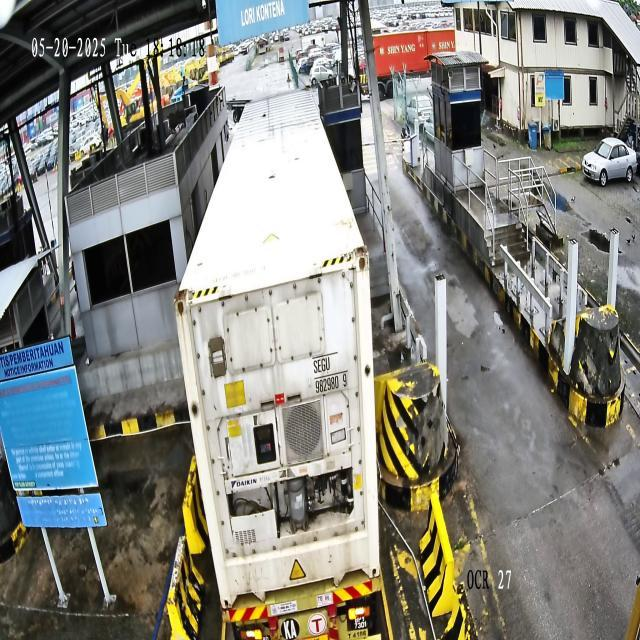container_number: (312, 351, 350, 396)
